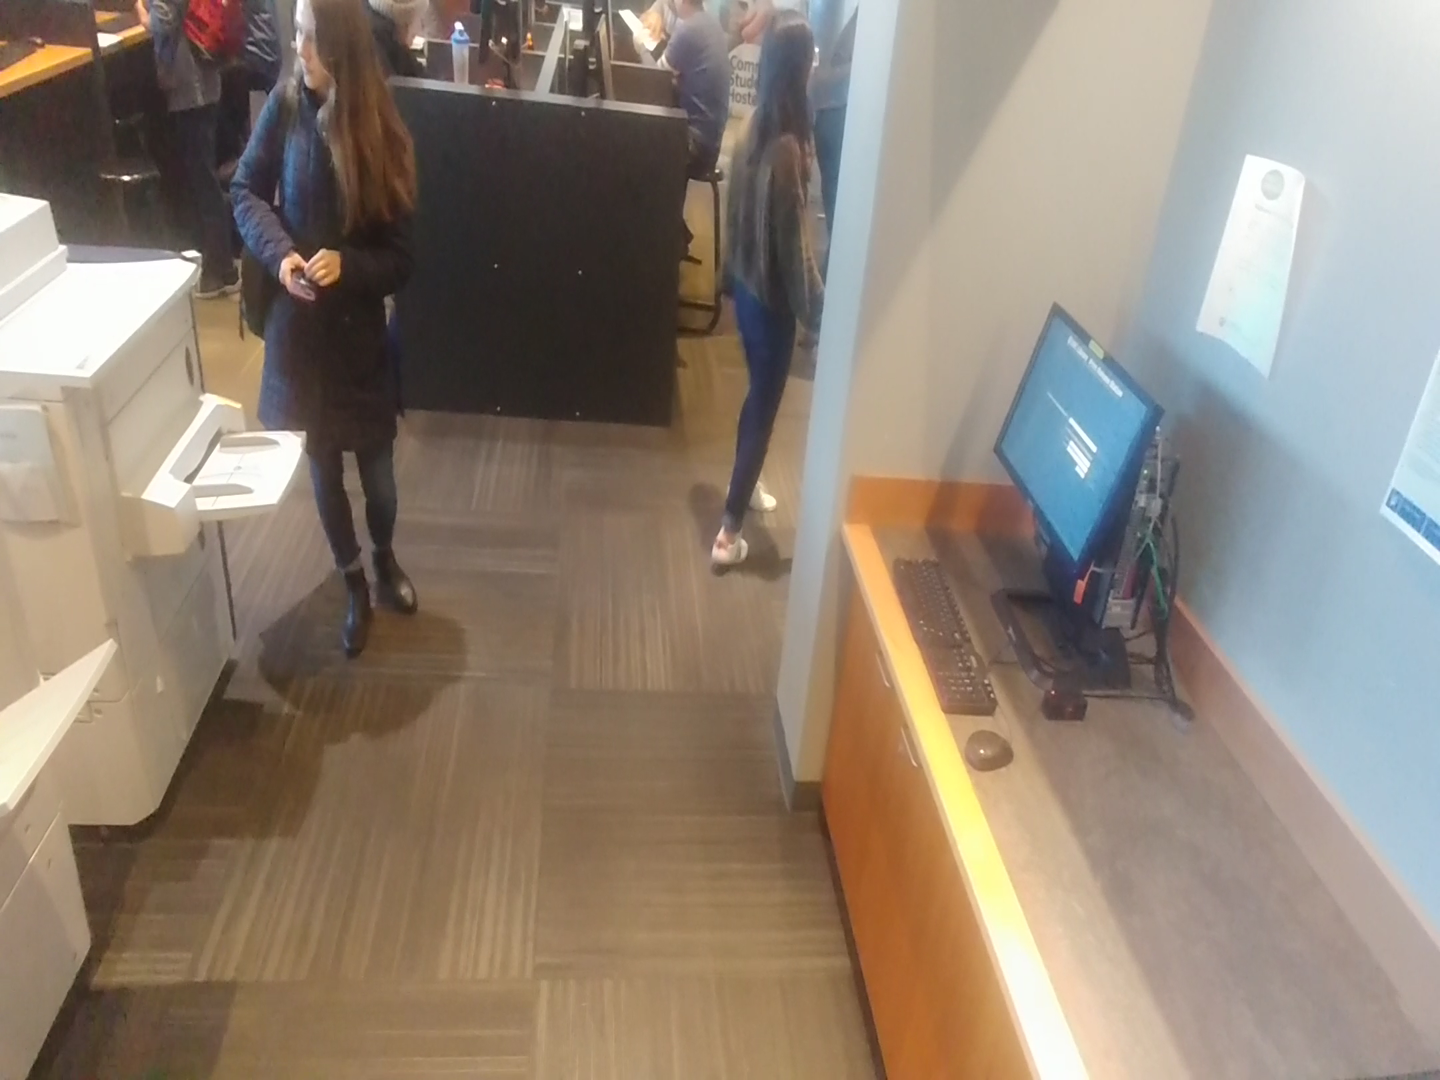face: (742, 0, 831, 138), (268, 0, 380, 110)
human: (209, 0, 443, 670)
